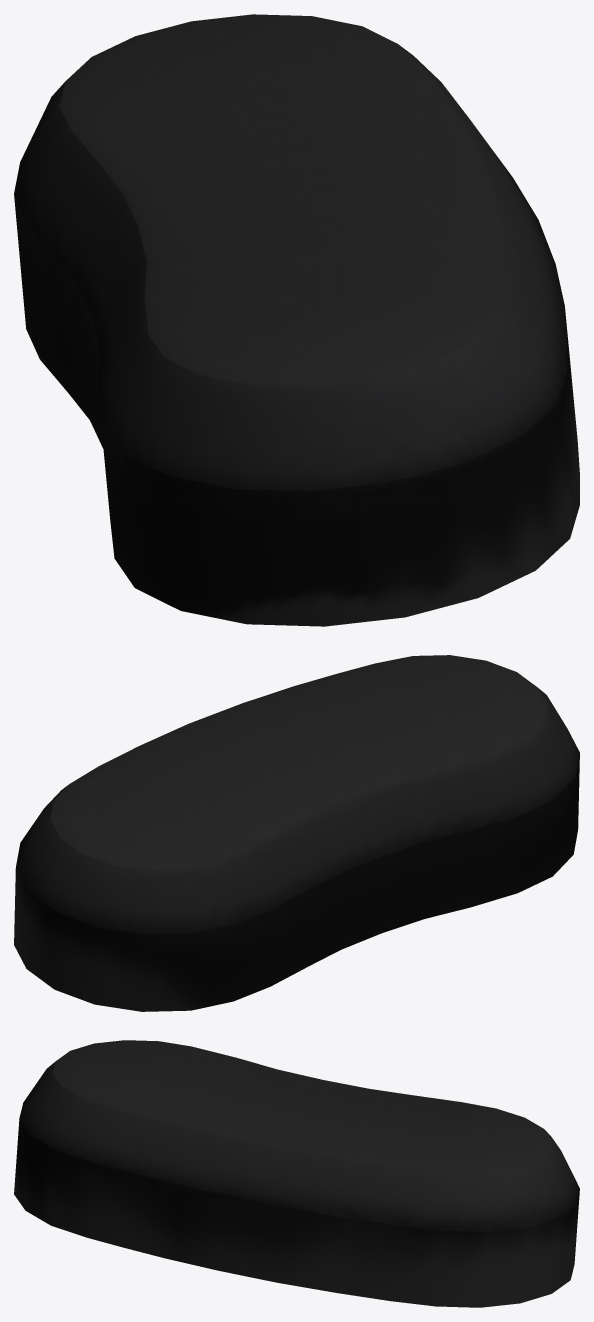
Rendered from button_b_left.obj.
3 renders of one model, top to bottom at view 1: azimuth 30°, elevation 25°; view 2: azimuth 150°, elevation 25°; view 3: azimuth 270°, elevation 25°, orthographic. The views are drawn at different scales.
Parts seen in each view (by area): view 1: button_face_b; view 2: button_face_b; view 3: button_face_b.
Part boxes in pixels (x1,y1,x2,y2): button_face_b: [14, 14, 579, 626]; button_face_b: [14, 655, 579, 1011]; button_face_b: [14, 1040, 579, 1307].
Size of the model in its own units: 0.012 by 0.00531 by 0.0179.
1 material, 1 textured.
